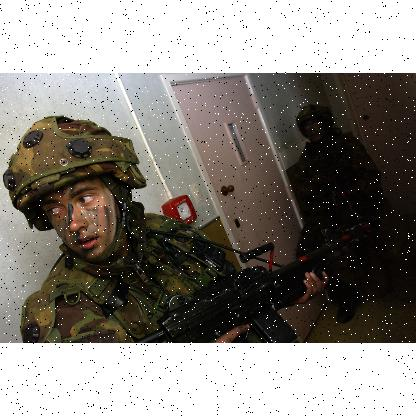gun: (128, 234, 366, 342)
